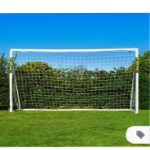goals: (8, 47, 139, 115)
